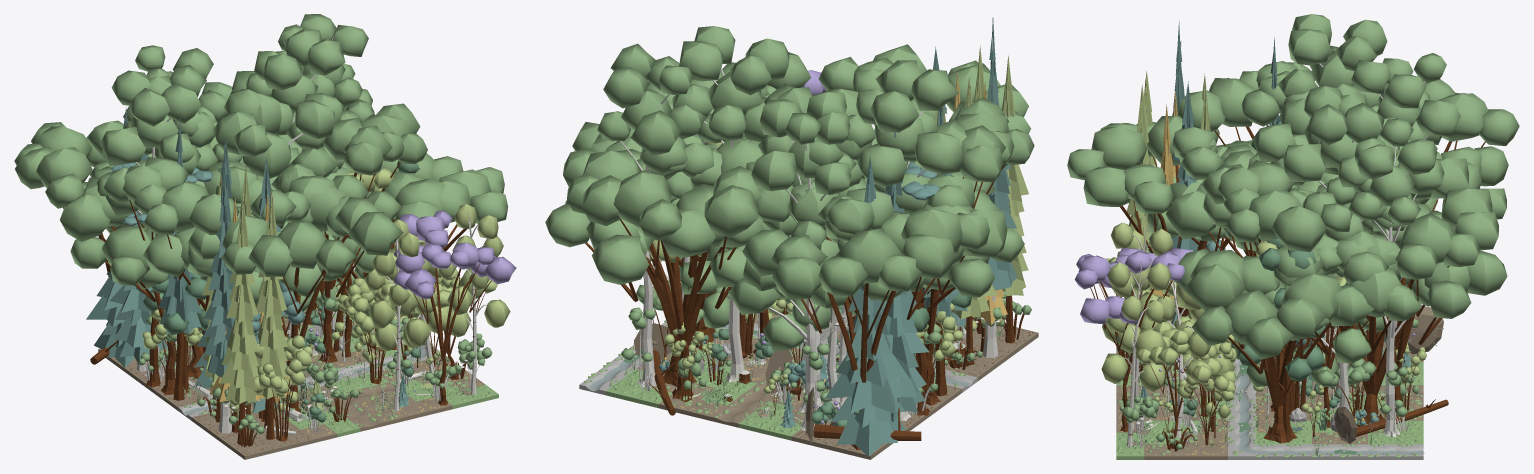
The model's file is dense-temperate-forest-flora-old-wood-he-9969ea49-starter-scene__28437.glb.
The picture shows the model from 3 angles, left to right: view 1: azimuth 30°, elevation 25°; view 2: azimuth 150°, elevation 25°; view 3: azimuth 270°, elevation 25°; orthographic projection. The views are drawn at different scales.
Visible parts, largest first — view 1: 383-oak-mature/1, 120-sycamore-mature/1, 127-sycamore-mature/1, 119-beech-mature/1, 130-oak-old/1, 124-beech-old/1, 126-beech-mature/1, 118-oak-mature/1, 153-cherry-blossom/1, 146-larch-mature/1, 131-sycamore-old/1, 150-birch-mature/1 (+35 smaller); view 2: 118-oak-mature/1, 125-oak-mature/1, 119-beech-mature/1, 121-ash-mature/1, 134-oak-old/1, 126-beech-mature/1, 128-ash-mature/1, 136-spruce-mature/1, 120-sycamore-mature/1, 132-ash-old/1, 383-oak-mature/1, 131-sycamore-old/1 (+35 smaller); view 3: 130-oak-old/1, 383-oak-mature/1, 125-oak-mature/1, 127-sycamore-mature/1, 134-oak-old/1, 128-ash-mature/1, 126-beech-mature/1, 119-beech-mature/1, 121-ash-mature/1, 118-oak-mature/1, 155-birch-mature/1, 129-hornbeam-mature/1 (+33 smaller).
Part boxes in pixels (<box>): 383-oak-mature/1: <box>188,164,403,276</box>; 120-sycamore-mature/1: <box>60,144,272,241</box>; 127-sycamore-mature/1: <box>256,103,427,239</box>; 119-beech-mature/1: <box>96,70,204,242</box>; 130-oak-old/1: <box>321,153,507,272</box>; 124-beech-old/1: <box>200,91,347,281</box>; 126-beech-mature/1: <box>246,28,345,169</box>; 118-oak-mature/1: <box>14,120,147,216</box>; 153-cherry-blossom/1: <box>393,210,516,299</box>; 146-larch-mature/1: <box>219,193,259,404</box>; 131-sycamore-old/1: <box>70,161,279,285</box>; 150-birch-mature/1: <box>364,219,430,351</box>; 118-oak-mature/1: <box>742,162,989,300</box>; 125-oak-mature/1: <box>563,133,774,240</box>; 119-beech-mature/1: <box>846,60,969,229</box>; 121-ash-mature/1: <box>743,91,856,308</box>; 134-oak-old/1: <box>545,144,764,287</box>; 126-beech-mature/1: <box>672,26,789,249</box>; 128-ash-mature/1: <box>597,43,706,255</box>; 136-spruce-mature/1: <box>824,156,908,456</box>; 120-sycamore-mature/1: <box>836,98,1034,257</box>; 132-ash-old/1: <box>728,87,872,315</box>; 383-oak-mature/1: <box>812,44,1031,170</box>; 131-sycamore-old/1: <box>787,178,1024,301</box>; 130-oak-old/1: <box>1174,238,1401,359</box>; 383-oak-mature/1: <box>1067,116,1256,225</box>; 125-oak-mature/1: <box>1298,153,1506,284</box>; 127-sycamore-mature/1: <box>1166,158,1372,251</box>; 134-oak-old/1: <box>1265,203,1507,332</box>; 128-ash-mature/1: <box>1345,118,1444,319</box>; 126-beech-mature/1: <box>1283,85,1399,278</box>; 119-beech-mature/1: <box>1277,14,1387,106</box>; 121-ash-mature/1: <box>1351,53,1460,211</box>; 118-oak-mature/1: <box>1384,75,1519,199</box>; 155-birch-mature/1: <box>1101,262,1171,391</box>; 129-hornbeam-mature/1: <box>1302,178,1386,363</box>.
Size of the model in its own units: 35.1 by 24.92 by 32.39.
12 materials, 1 textured.
